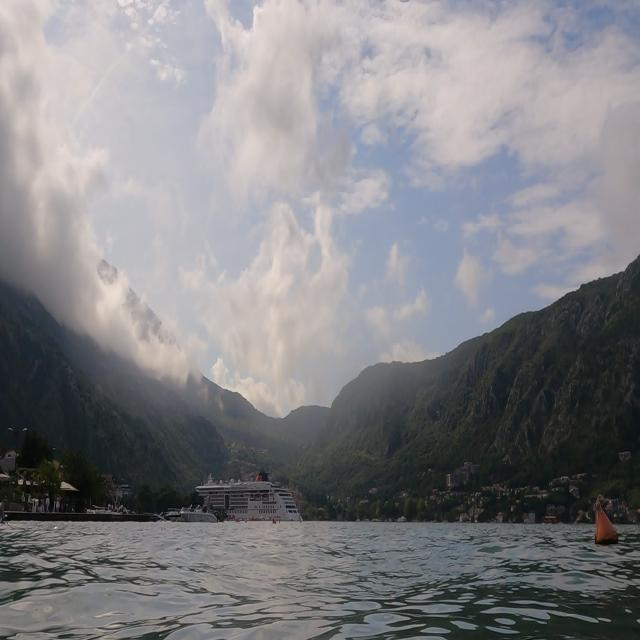boat: (190, 471, 308, 535), (174, 496, 226, 536)
buoy: (591, 496, 621, 552)
